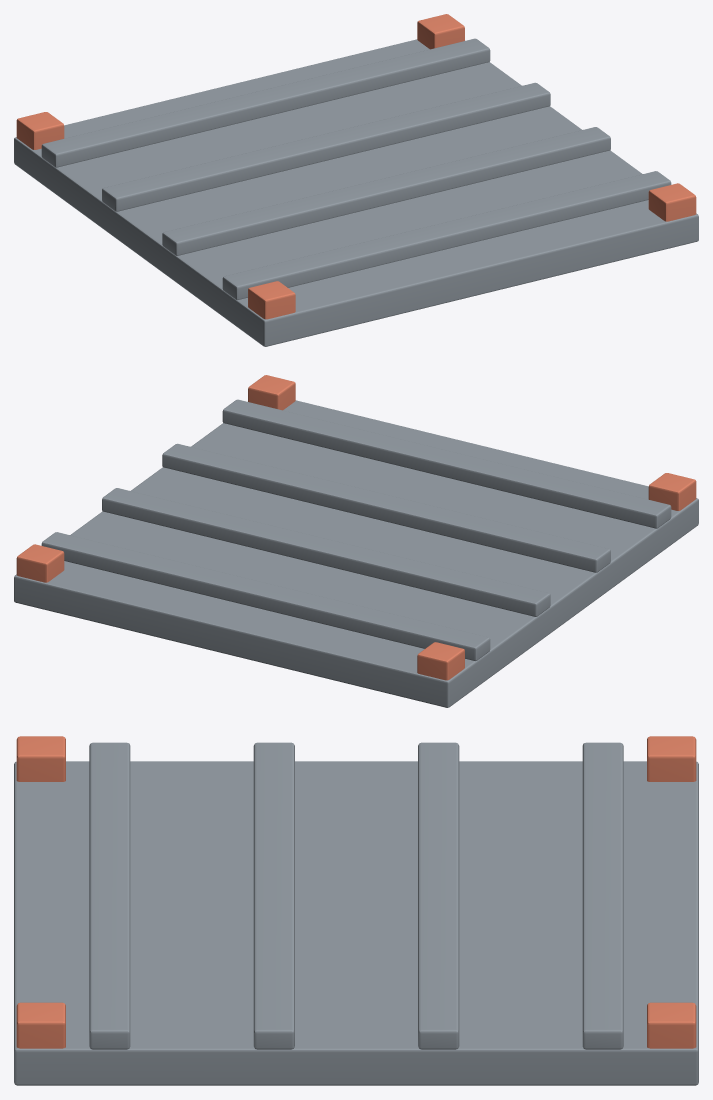
File: hatch_cover.glb
3 renders of one model, top to bottom at view 1: azimuth 30°, elevation 25°; view 2: azimuth 150°, elevation 25°; view 3: azimuth 270°, elevation 25°, orthographic. The views are drawn at different scales.
Parts seen in each view (by area): view 1: hatch_cover; view 2: hatch_cover; view 3: hatch_cover.
Part boxes in pixels (x1,y1,x2,y2): hatch_cover: (14, 14, 698, 346); hatch_cover: (14, 375, 698, 707); hatch_cover: (14, 736, 698, 1085).
Size of the model in its own units: 2.5 by 0.255 by 2.5.
